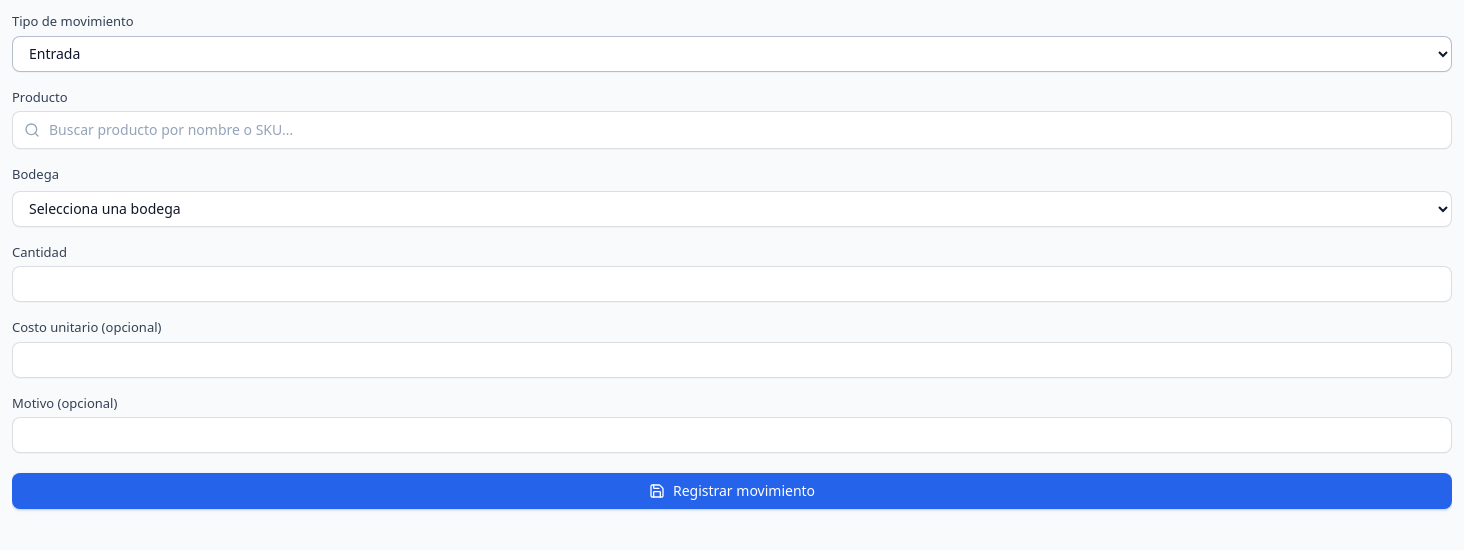
Test: MovementForm › blocks submit and shows an error when no product is selected
The width and height of the screenshot is (1464, 550).
Select "Bodega principal" in the dropdown labelled "Bodega" at (732, 208), box [12,190,1452,226]
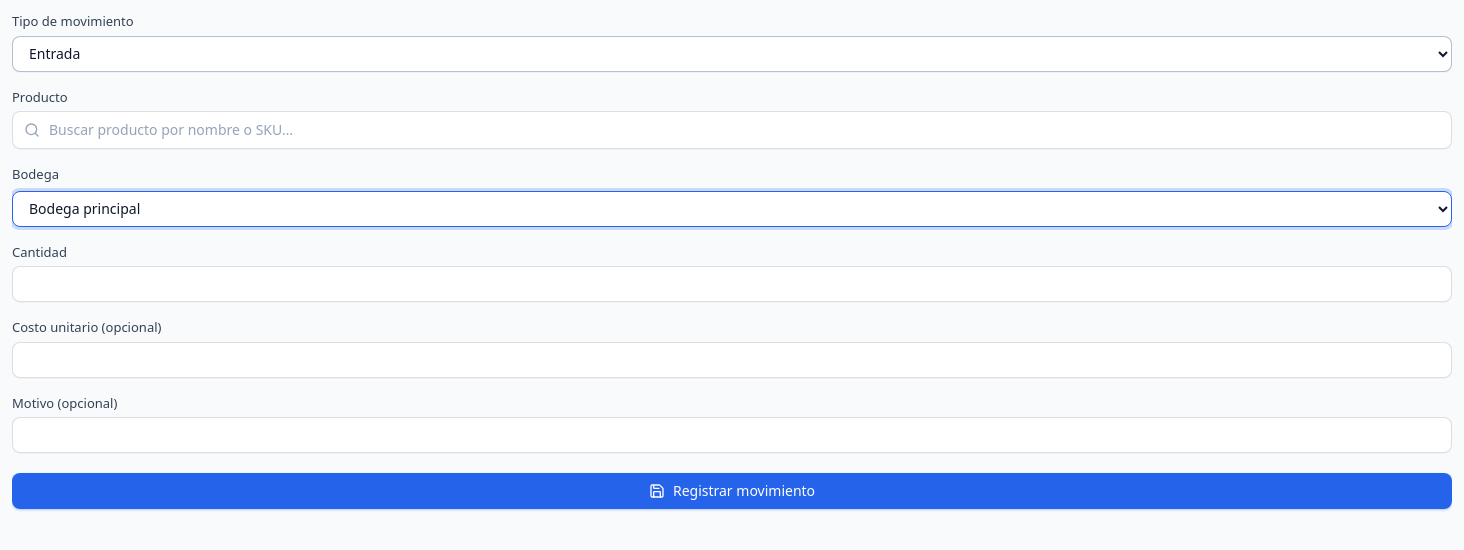
Type "5" into the number field labelled "Cantidad" at (732, 284), box [12,266,1452,302]
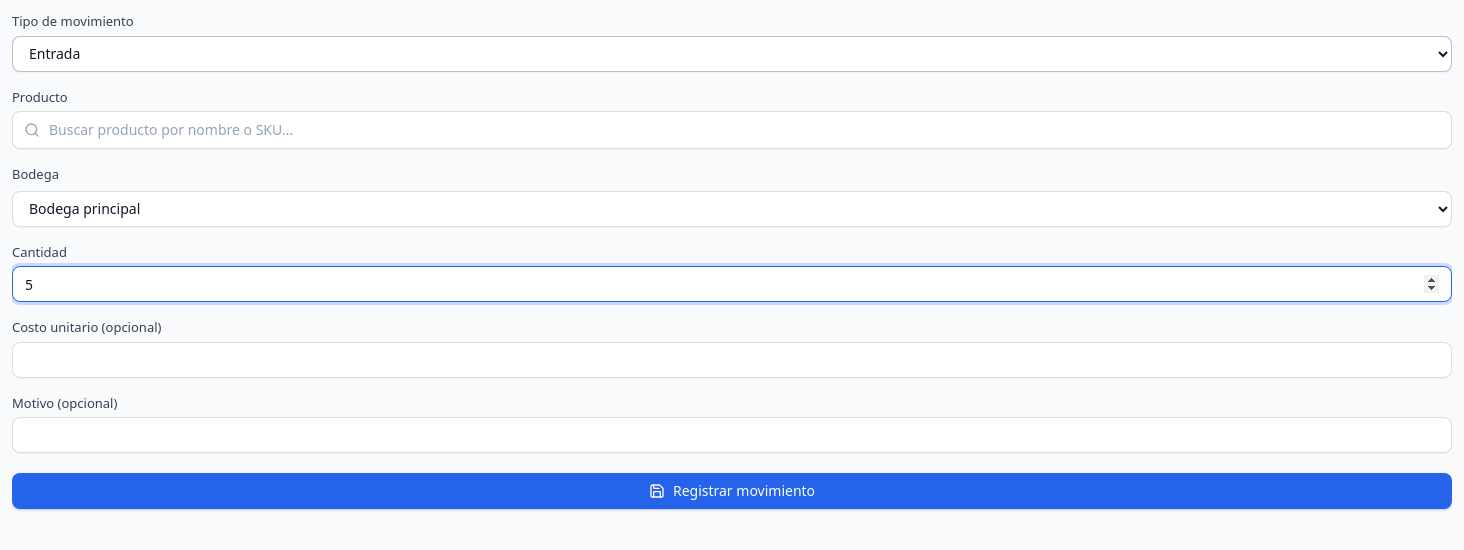
Click the button "Registrar movimiento" at (732, 491), box [12,473,1452,509]
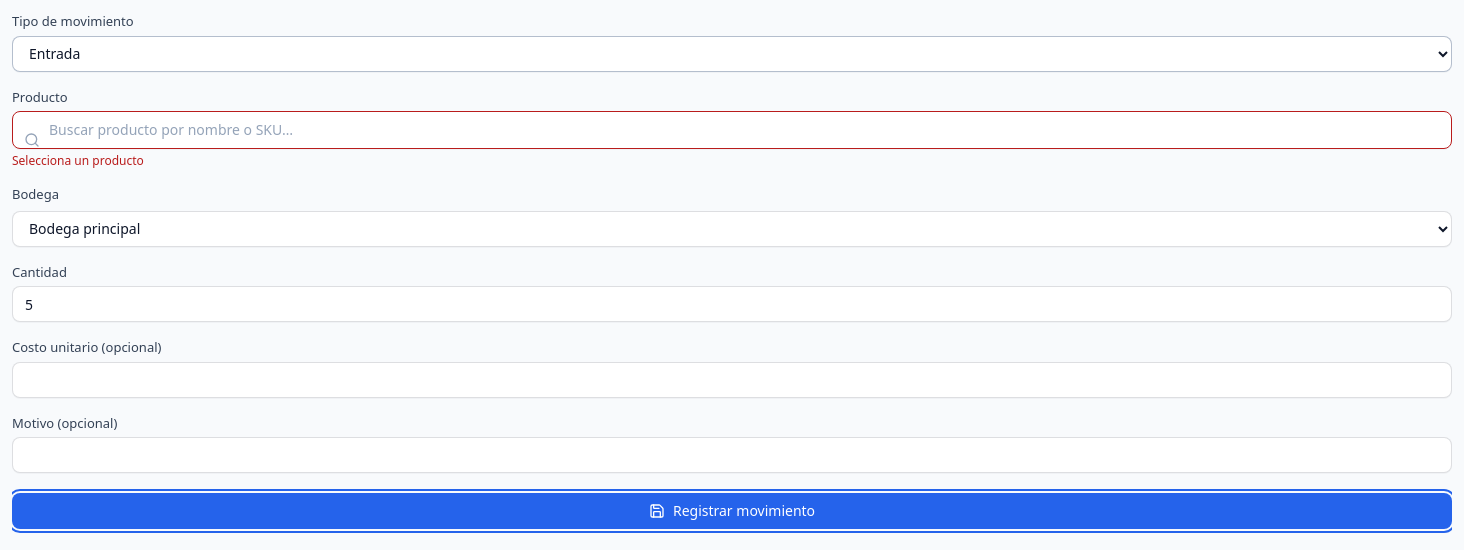
Check: the text "Selecciona un producto" is shown, box [12,152,144,169]
